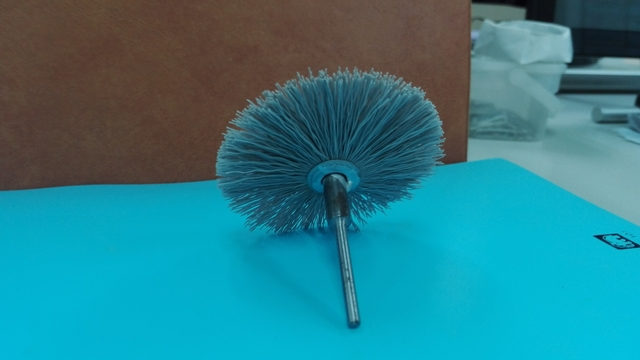TOOL: (197, 41, 472, 319), (203, 59, 454, 287)
